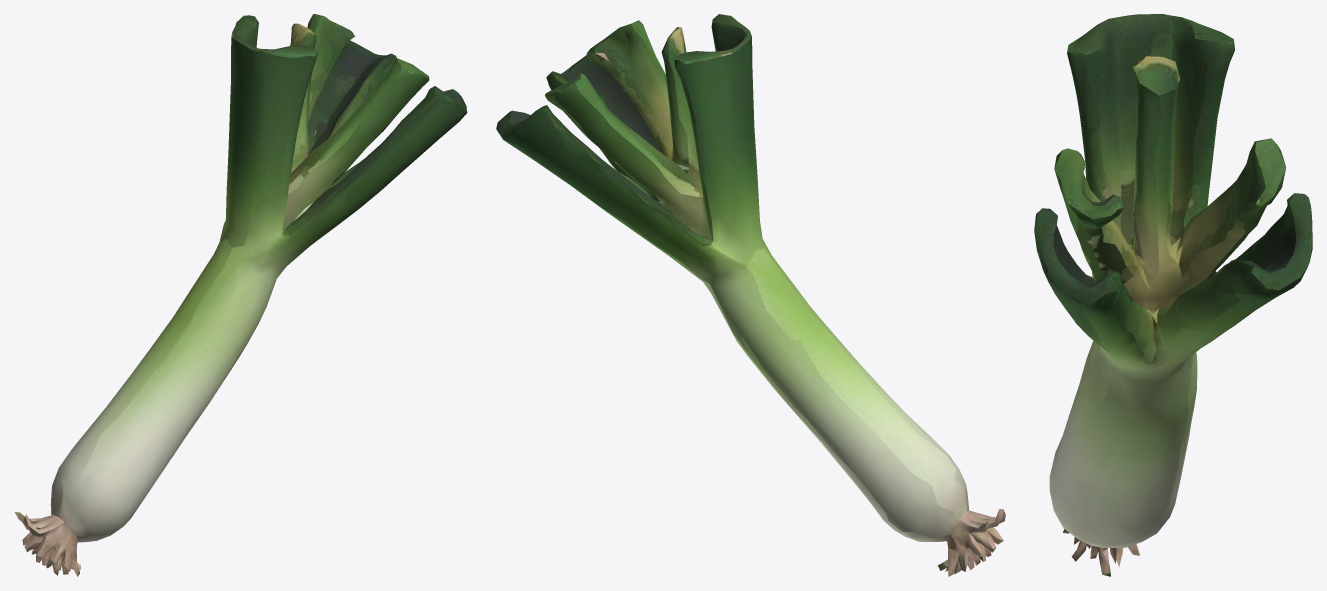
File: frost_leek.glb
The picture shows the model from 3 angles, left to right: view 1: azimuth 30°, elevation 25°; view 2: azimuth 150°, elevation 25°; view 3: azimuth 270°, elevation 25°; orthographic projection. The views are drawn at different scales.
Visible parts, largest first — view 1: frost_leek; view 2: frost_leek; view 3: frost_leek.
Boxes of the visible parts, bbox=[...] form: frost_leek: bbox=[14, 14, 467, 576]; frost_leek: bbox=[496, 14, 1005, 576]; frost_leek: bbox=[1034, 14, 1312, 576].
Size of the model in its own units: 0.9686 by 1 by 0.366.
1 material, 1 textured.
